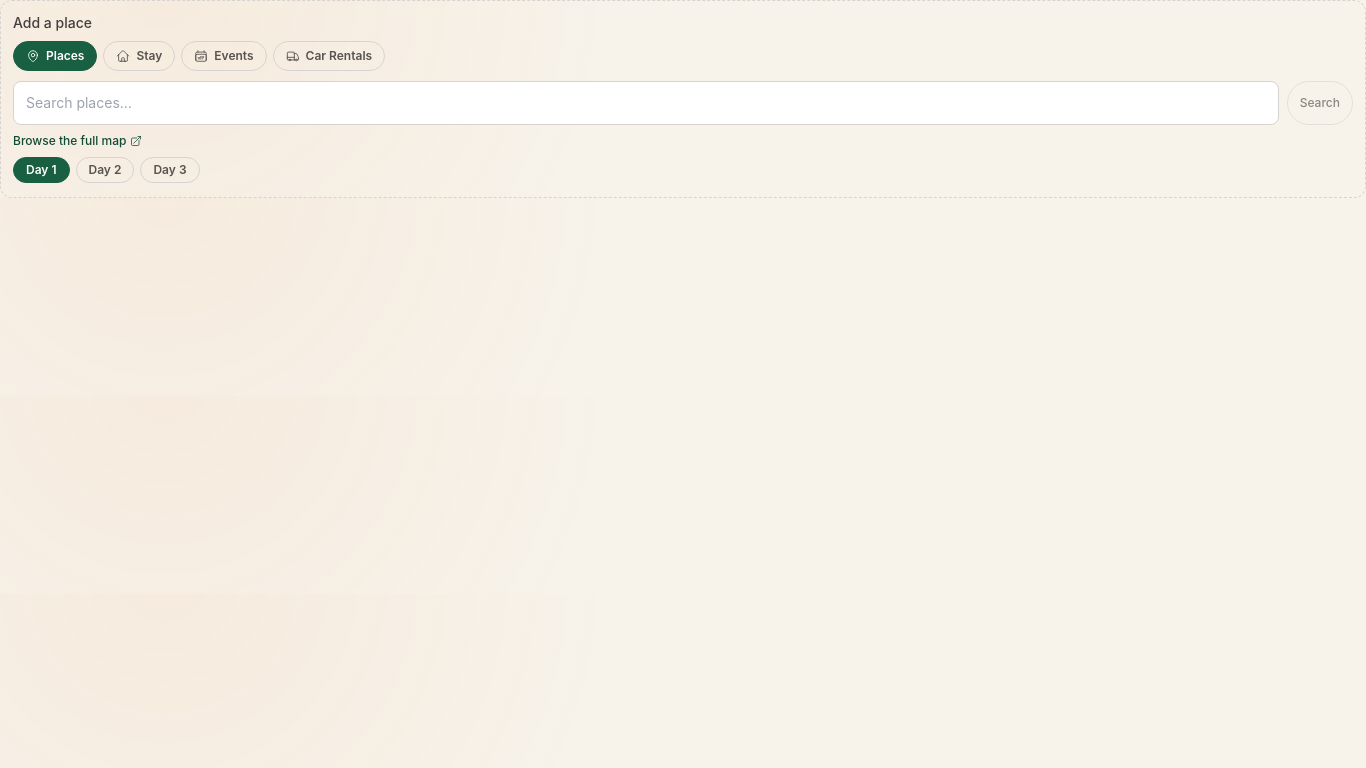
Test: AddTripStop › links each result to its own detail page, opened in a new tab, without adding it
In the field with placeholder "Search places…": (646, 103) [13,81,1279,125], type "beach"
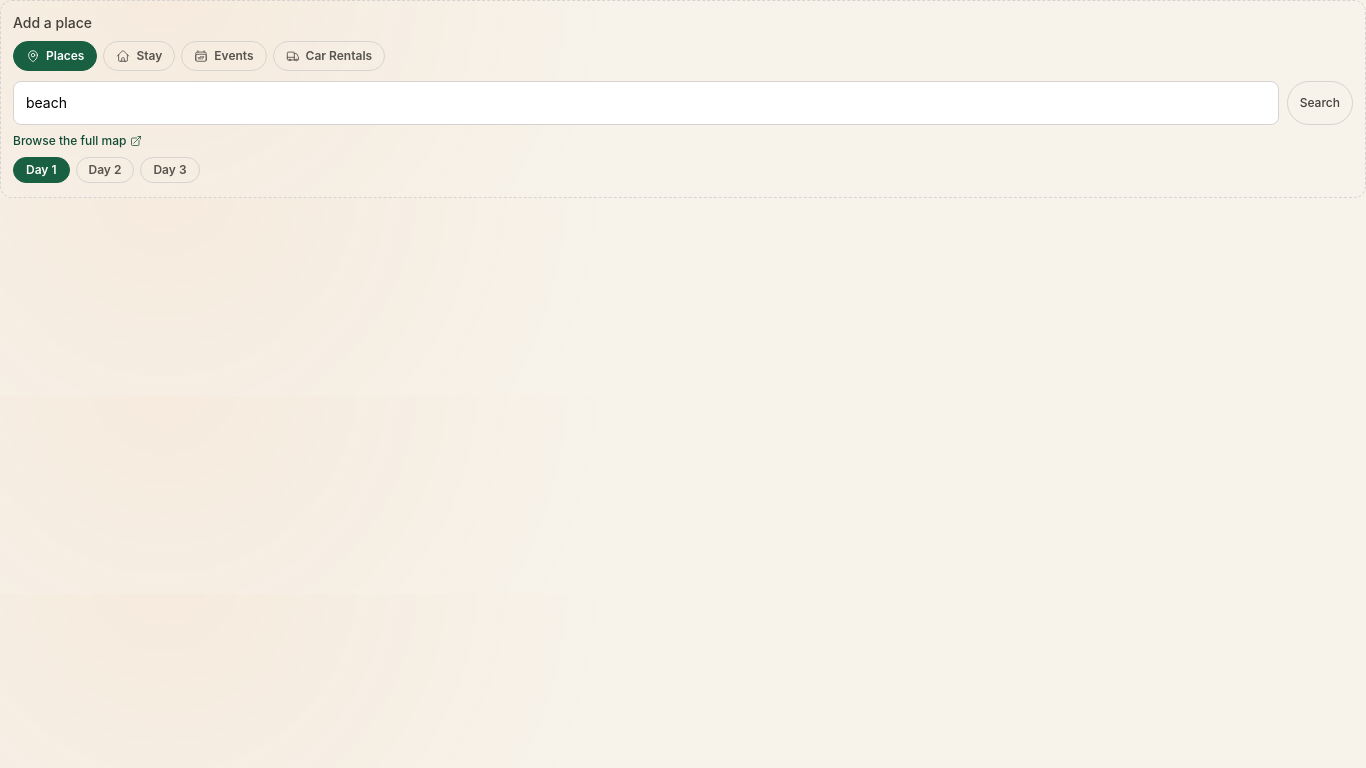
Click the button "Search": (1320, 103) [1287,81,1353,125]
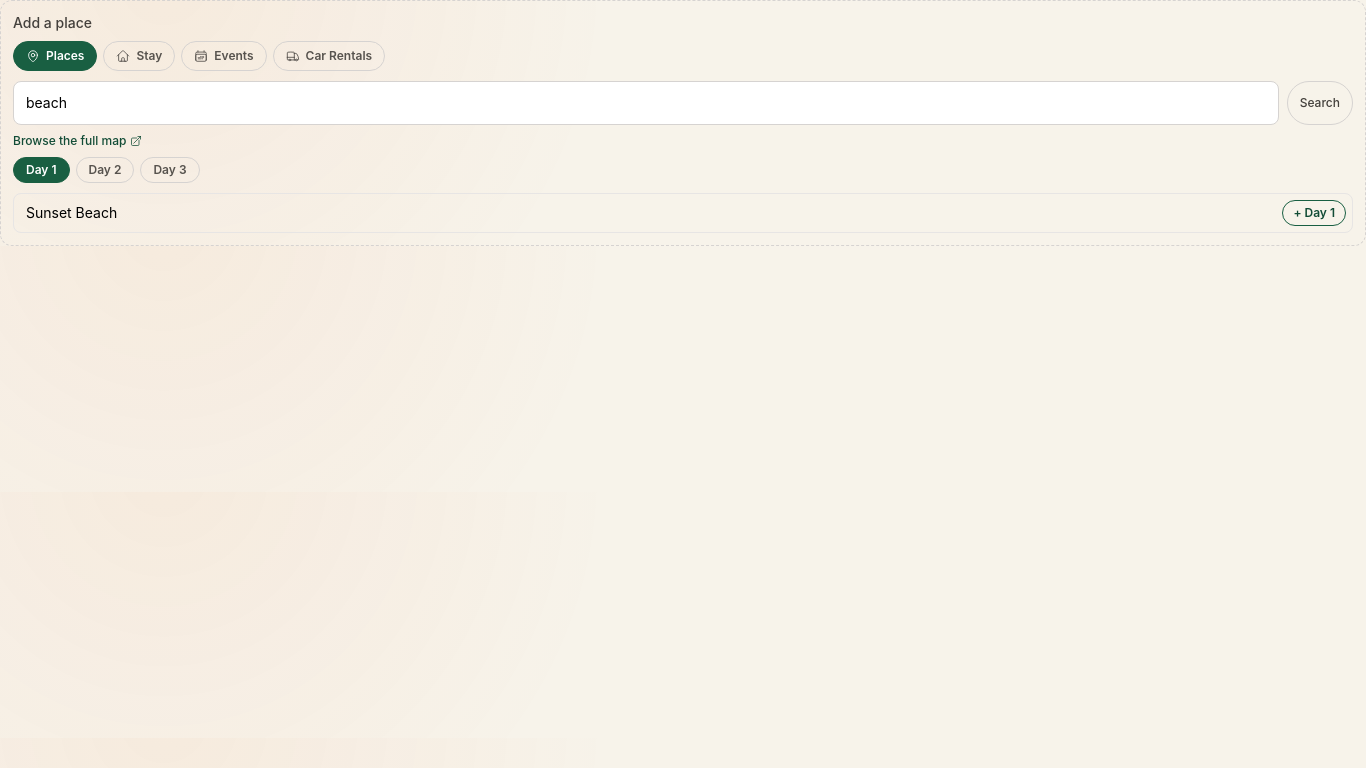
Expected: the text "Sunset Beach" is shown, [26,204,117,221]
